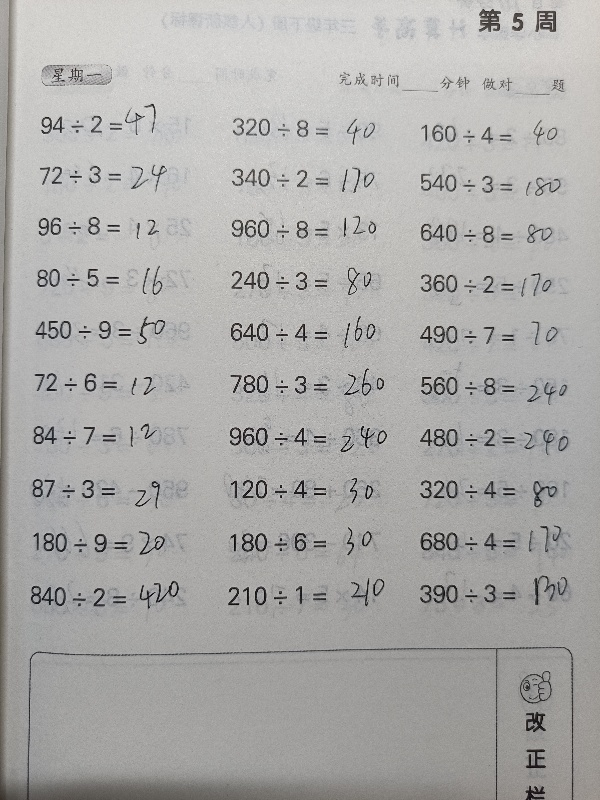equation: (411, 565, 591, 611), (32, 101, 212, 146), (411, 518, 591, 562), (26, 310, 206, 354), (21, 575, 201, 618), (221, 419, 401, 461), (222, 470, 402, 511), (411, 420, 591, 461), (411, 266, 591, 304), (221, 525, 401, 560), (24, 524, 204, 559), (222, 366, 402, 401), (411, 216, 591, 251), (411, 167, 591, 202), (219, 578, 399, 612), (412, 472, 592, 506), (23, 471, 203, 505), (24, 418, 204, 452), (413, 369, 593, 403), (26, 365, 206, 399), (412, 318, 592, 352), (221, 315, 401, 349), (222, 263, 402, 297), (28, 261, 208, 295), (222, 212, 402, 246), (29, 209, 209, 243), (223, 161, 403, 195), (31, 158, 211, 192), (223, 110, 403, 144), (412, 118, 592, 151)
